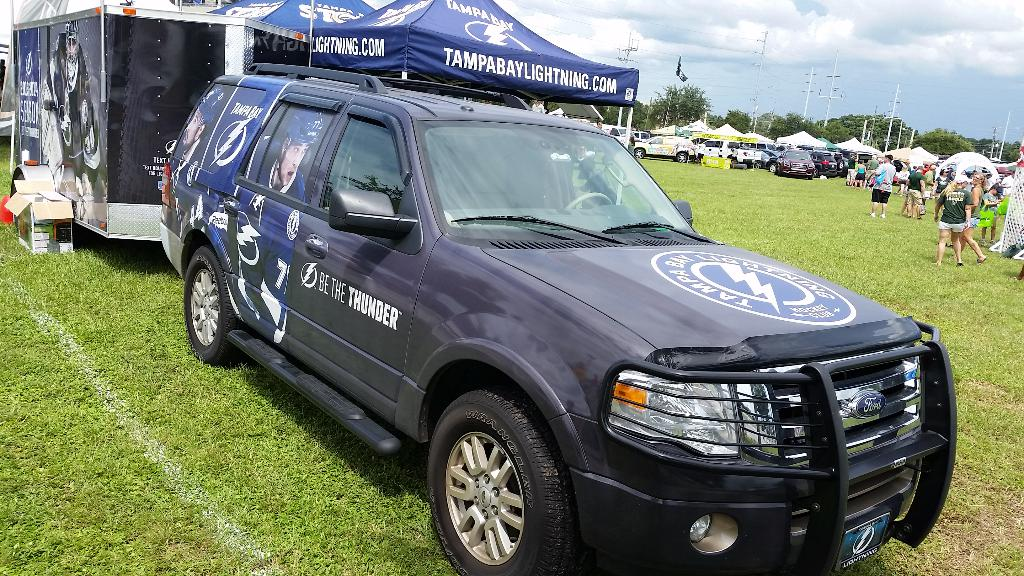cars: (606, 123, 850, 180)
